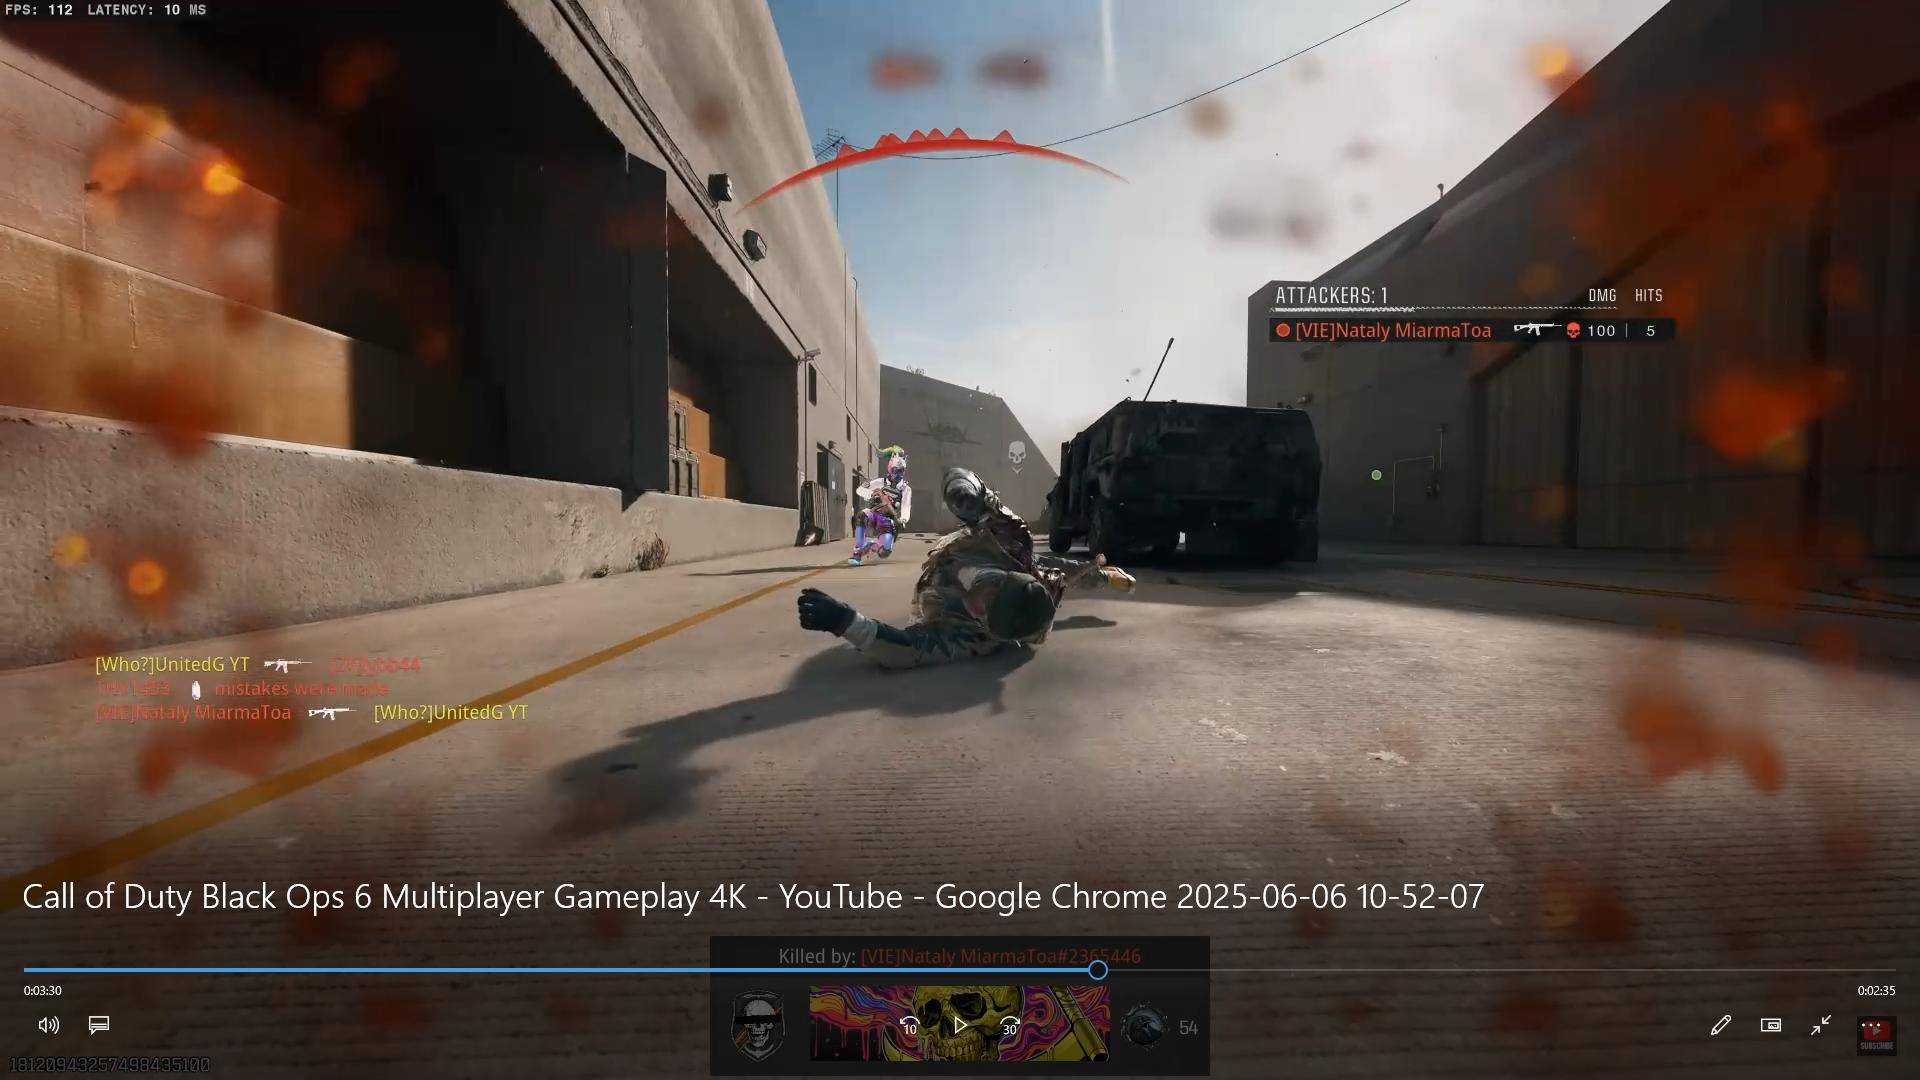Enemy: (833, 431, 923, 571)
